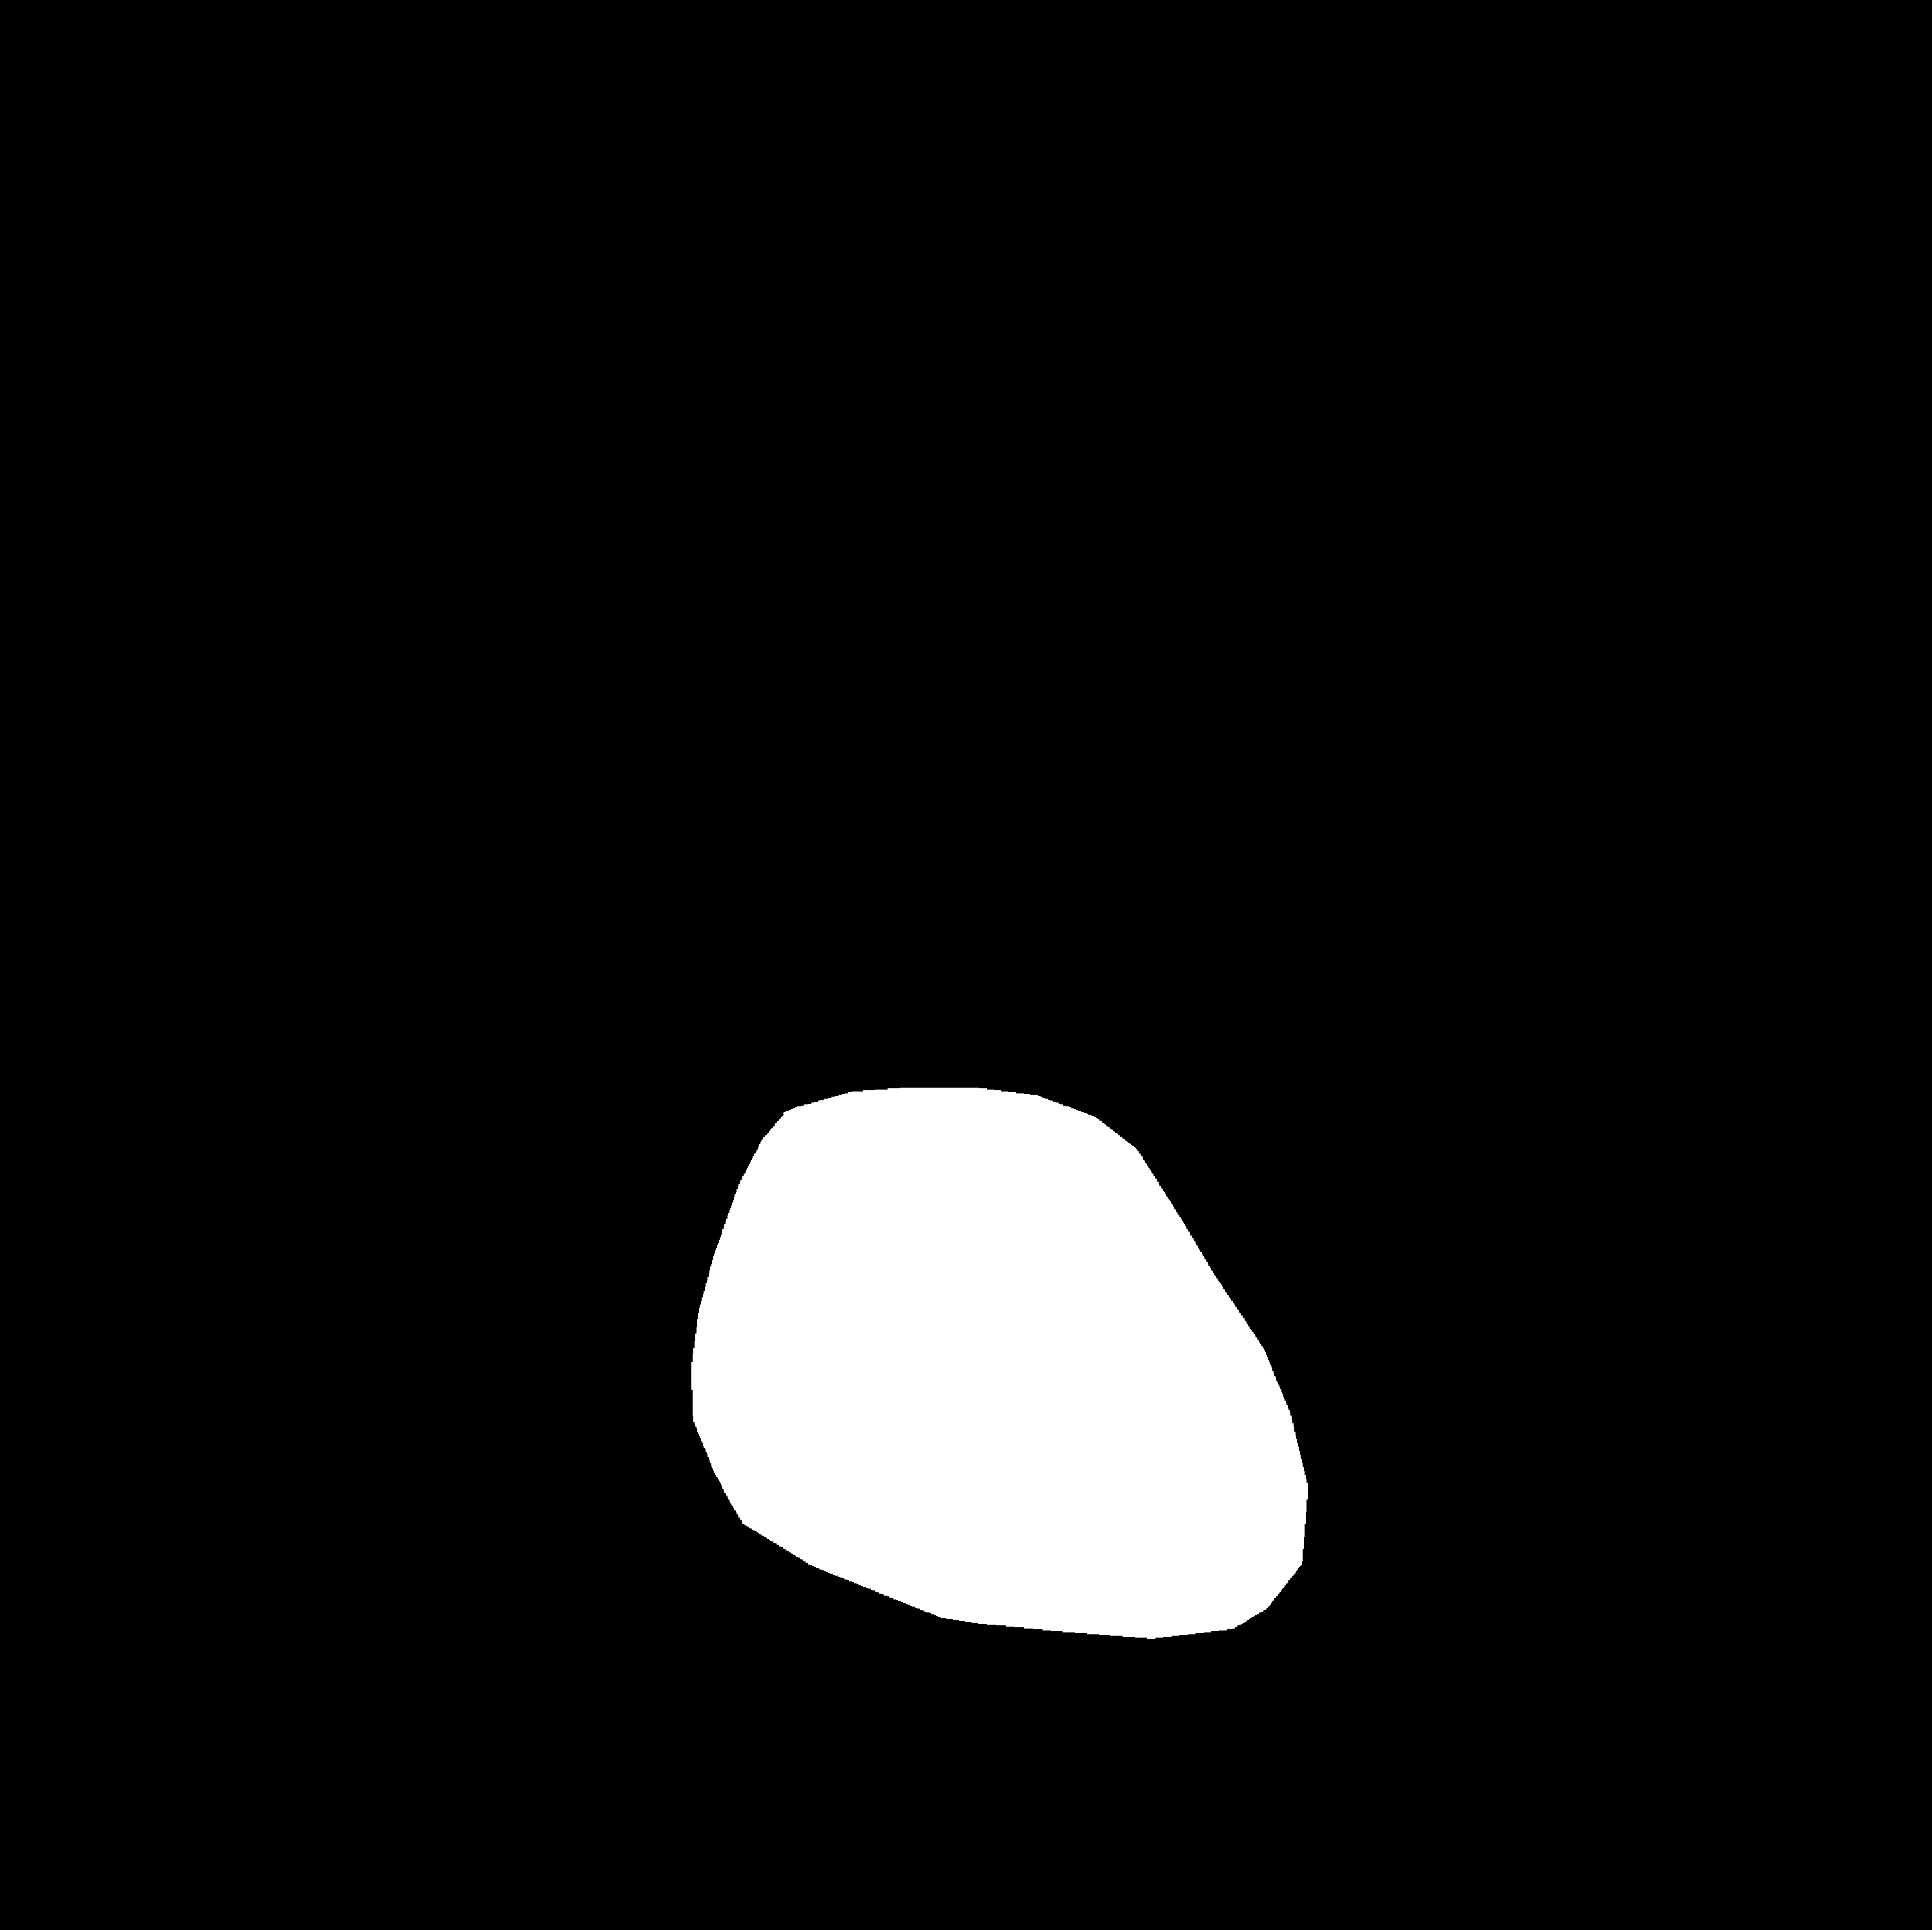heart: (693, 1142, 1301, 1683)
left_lung: (263, 376, 838, 1815)
right_lung: (997, 394, 1626, 1870)
